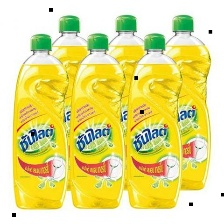book: (8, 32, 70, 212), (124, 30, 183, 211), (67, 32, 126, 211), (98, 13, 157, 191), (157, 12, 214, 191), (44, 13, 98, 192)
